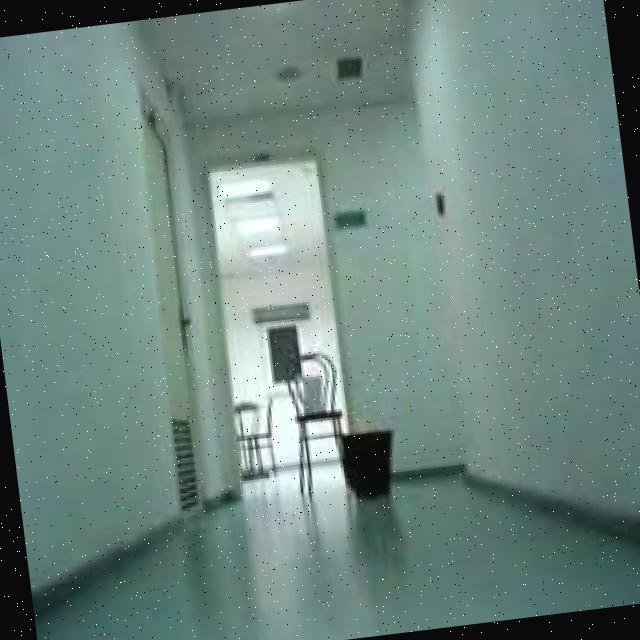Fire: (335, 421, 354, 440)
